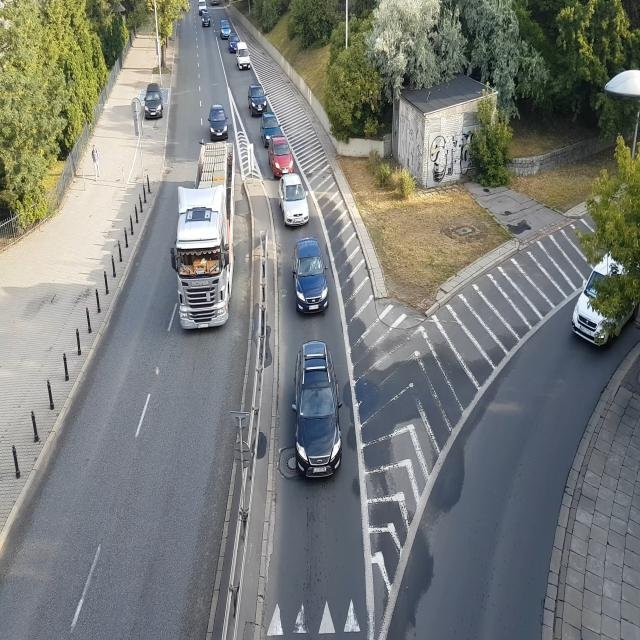car: (287, 335, 345, 481), (572, 242, 619, 353), (290, 238, 331, 314), (280, 174, 309, 228), (269, 138, 296, 178), (209, 106, 230, 141), (143, 88, 165, 120), (248, 82, 268, 116), (262, 111, 282, 142), (228, 37, 240, 55), (236, 56, 250, 70), (221, 21, 232, 38), (199, 13, 212, 27), (198, 0, 208, 15)
truck: (174, 143, 239, 329)
